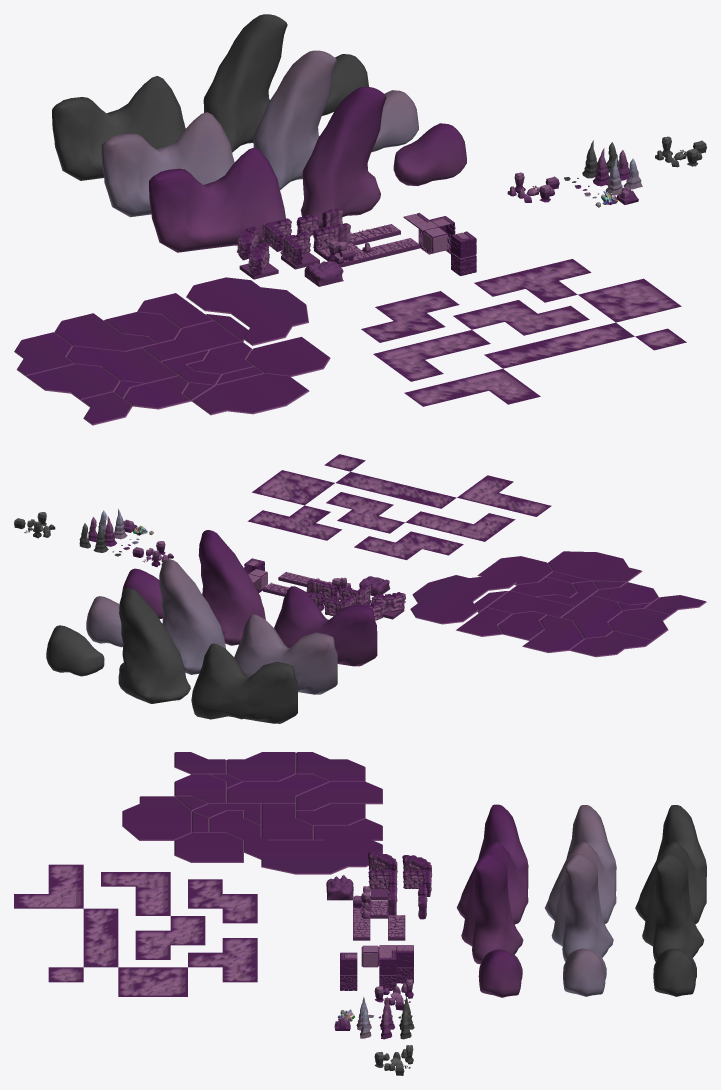
The model's file is ModulosRoca01.fbx.
3 renders of one model, top to bottom at view 1: azimuth 30°, elevation 25°; view 2: azimuth 150°, elevation 25°; view 3: azimuth 270°, elevation 25°, orthographic. The views are drawn at different scales.
Parts seen in each view (by area): view 1: PolySphere1, PolySphere1_1, PolySphere005, PolySphere003, PolySphere1_002, PolySphere1_003, Line135, PolySphere, Line133, Line140, Object004, Object005 (+23 smaller); view 2: PolySphere005, PolySphere1_003, PolySphere003, PolySphere1, PolySphere1_002, PolySphere1_1, Line135, PolySphere004, Line133, Line140, Object004, Object009 (+20 smaller); view 3: PolySphere1_1, PolySphere1_003, PolySphere1_002, Line135, PolySphere1, PolySphere003, PolySphere005, Line133, Object004, Line140, Object010, Object008 (+22 smaller).
Boxes of the visible parts, x1=… form: PolySphere1: x1=149, y1=147, x2=285, y2=252; PolySphere1_1: x1=300, y1=87, x2=386, y2=229; PolySphere005: x1=52, y1=76, x2=185, y2=180; PolySphere003: x1=101, y1=112, x2=234, y2=217; PolySphere1_002: x1=253, y1=50, x2=336, y2=189; PolySphere1_003: x1=203, y1=14, x2=287, y2=152; Line135: x1=186, y1=277, x2=308, y2=345; PolySphere: x1=393, y1=123, x2=466, y2=186; Line133: x1=192, y1=373, x2=309, y2=415; Line140: x1=484, y1=322, x2=634, y2=368; Object004: x1=474, y1=259, x2=591, y2=302; Object005: x1=361, y1=291, x2=459, y2=342; PolySphere005: x1=191, y1=643, x2=297, y2=723; PolySphere1_003: x1=118, y1=588, x2=190, y2=703; PolySphere003: x1=234, y1=614, x2=337, y2=694; PolySphere1: x1=274, y1=586, x2=377, y2=666; PolySphere1_002: x1=159, y1=559, x2=225, y2=674; PolySphere1_1: x1=198, y1=530, x2=265, y2=645; Line135: x1=410, y1=575, x2=516, y2=624; PolySphere004: x1=46, y1=625, x2=104, y2=676; Line133: x1=548, y1=551, x2=642, y2=582; Line140: x1=336, y1=472, x2=456, y2=508; Object004: x1=247, y1=505, x2=341, y2=540; Object009: x1=405, y1=511, x2=515, y2=541; PolySphere1_1: x1=461, y1=854, x2=523, y2=964; PolySphere1_003: x1=642, y1=854, x2=703, y2=961; PolySphere1_002: x1=551, y1=854, x2=613, y2=961; Line135: x1=244, y1=837, x2=382, y2=874; PolySphere1: x1=456, y1=804, x2=528, y2=924; PolySphere003: x1=545, y1=805, x2=616, y2=923; PolySphere005: x1=635, y1=805, x2=706, y2=923; Line133: x1=122, y1=796, x2=191, y2=840; Object004: x1=188, y1=938, x2=257, y2=982; Line140: x1=83, y1=908, x2=118, y2=967; Object010: x1=135, y1=916, x2=205, y2=959; Object008: x1=14, y1=864, x2=83, y2=908.
Bounding box in the file's own units: 1755 × 305 × 1569.
Materials: 1 (1 with a texture image).
